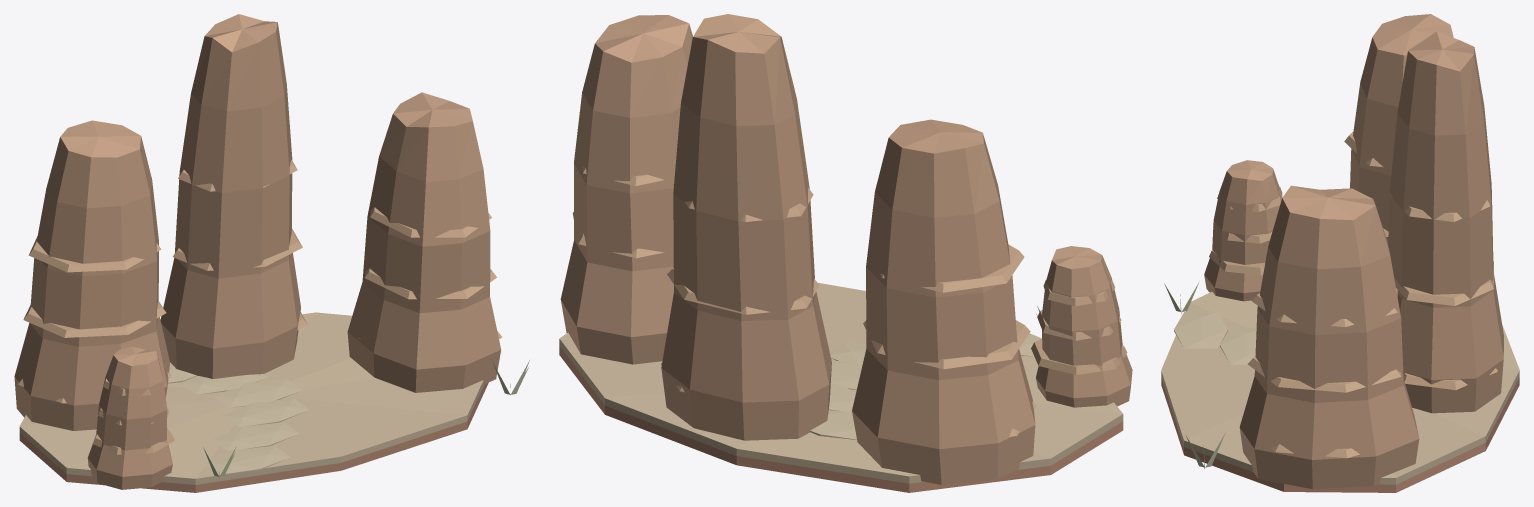
The picture shows the model from 3 angles, left to right: view 1: azimuth 30°, elevation 25°; view 2: azimuth 150°, elevation 25°; view 3: azimuth 270°, elevation 25°; orthographic projection. The views are drawn at different scales.
Parts seen in each view (by area): view 1: S11; view 2: S11; view 3: S11.
Boxes of the visible parts, box(x1,y1,x2,y2) form: S11: box(14, 14, 529, 492); S11: box(559, 14, 1132, 492); S11: box(1161, 14, 1519, 492).
Size of the model in its own units: 5.27 by 3.81 by 3.49.
